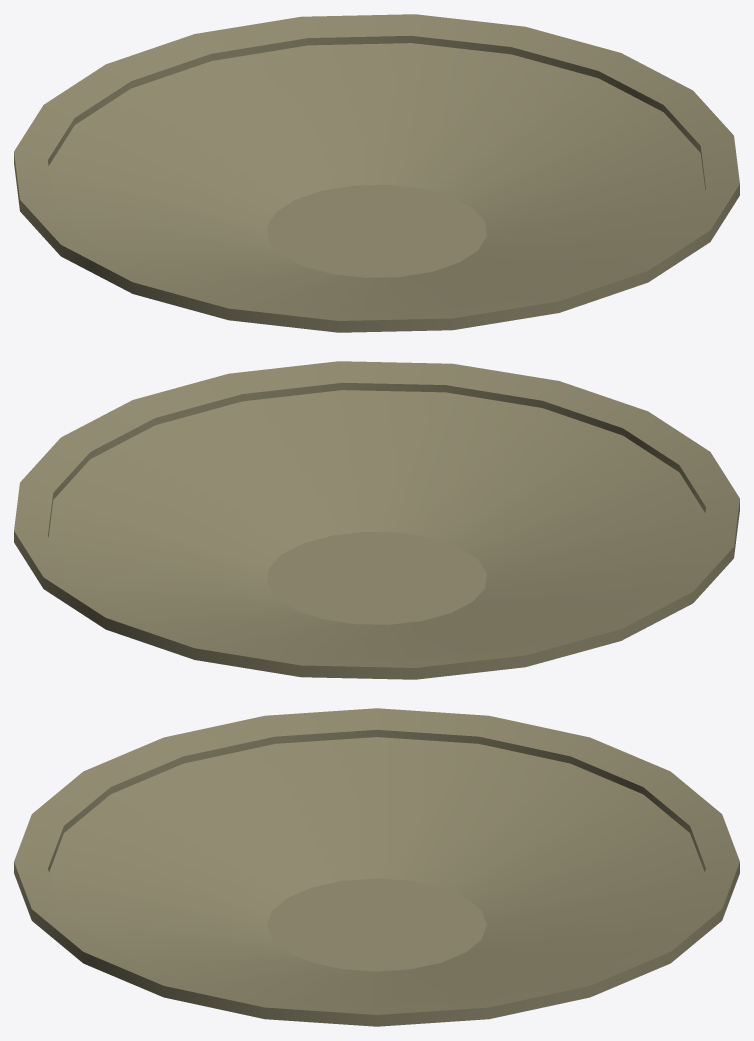
Rendered from SM_Prop_PlateLarge.fbx.
3 views of the same model, one above another, from view 1: azimuth 30°, elevation 25°; view 2: azimuth 150°, elevation 25°; view 3: azimuth 270°, elevation 25° (orthographic).
Visible parts, largest first — view 1: SM_Prop_PlateLarge; view 2: SM_Prop_PlateLarge; view 3: SM_Prop_PlateLarge.
Boxes of the visible parts, box(x1,y1,x2,y2) form: SM_Prop_PlateLarge: box(14, 14, 739, 332); SM_Prop_PlateLarge: box(14, 361, 739, 679); SM_Prop_PlateLarge: box(14, 708, 739, 1026).
Size of the model in its own units: 43.02 by 4.69 by 43.02.
